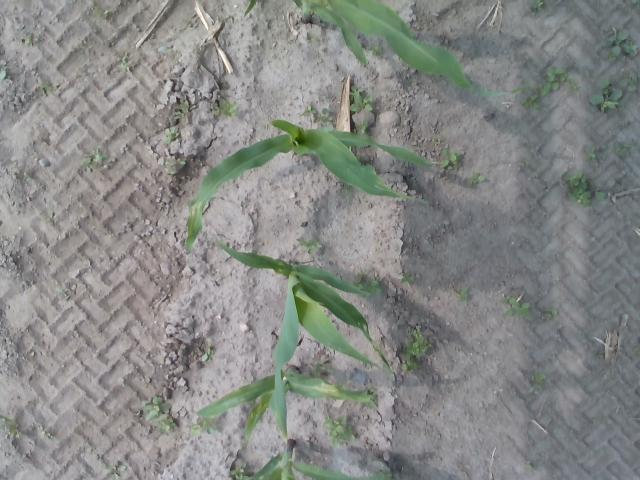Maize: (215, 237, 392, 438), (186, 119, 436, 253), (244, 0, 521, 98), (198, 368, 372, 441), (250, 439, 384, 480)
Weeds: (522, 66, 567, 104), (591, 76, 622, 106), (604, 30, 636, 58), (567, 173, 593, 206), (144, 397, 171, 419), (324, 416, 352, 436), (406, 333, 429, 356), (507, 298, 531, 318), (355, 270, 377, 286), (443, 150, 463, 167), (351, 96, 374, 110), (82, 154, 104, 168), (622, 72, 638, 91), (214, 100, 235, 114), (296, 237, 320, 249), (590, 146, 608, 160), (164, 127, 180, 142), (230, 464, 247, 478), (618, 141, 632, 157), (593, 188, 607, 202), (530, 372, 544, 384), (470, 172, 484, 184), (402, 360, 417, 371), (162, 418, 175, 430), (456, 288, 468, 301), (400, 271, 413, 282), (532, 0, 544, 11), (321, 110, 334, 120), (542, 308, 556, 317), (351, 87, 363, 96), (306, 106, 315, 115), (1, 70, 8, 80)
